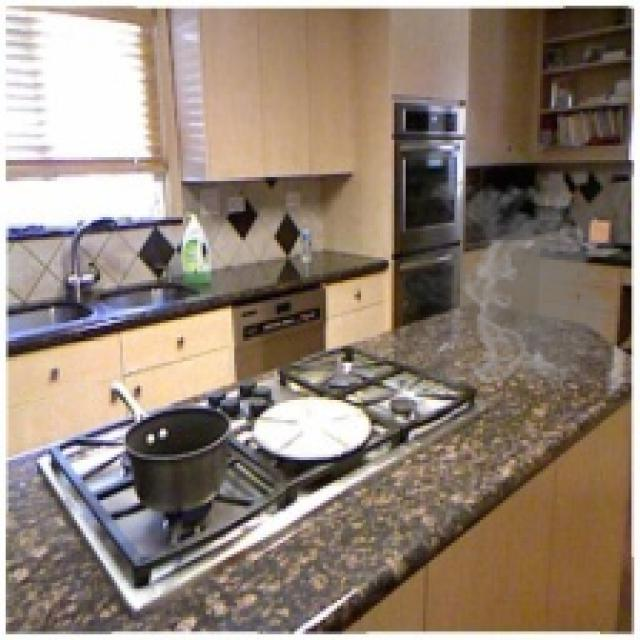smoke: (403, 172, 626, 392)
